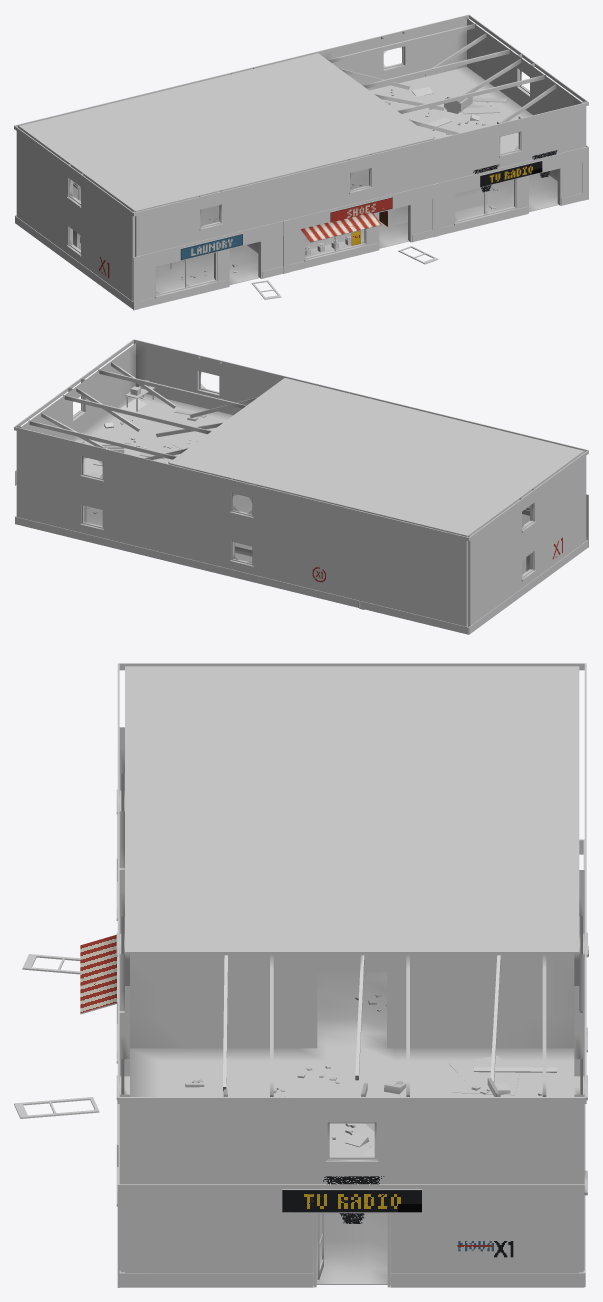
The model's file is shops.glb.
The picture shows the model from 3 angles, top to bottom: view 1: azimuth 30°, elevation 25°; view 2: azimuth 150°, elevation 25°; view 3: azimuth 270°, elevation 25°; orthographic projection. The views are drawn at different scales.
Visible parts, largest first — view 1: shops; view 2: shops; view 3: shops.
Boxes of the visible parts, bbox=[...] form: shops: bbox=[14, 14, 588, 310]; shops: bbox=[14, 339, 588, 634]; shops: bbox=[14, 663, 588, 1287].
Size of the model in its own units: 29.48 by 6.29 by 16.44.
4 materials, 3 textured.
